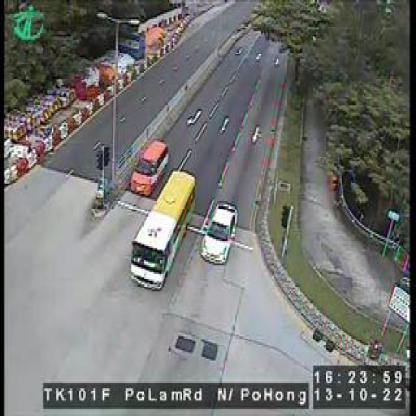Bus: (130, 170, 196, 293)
Car: (199, 198, 237, 266), (129, 140, 170, 197)
